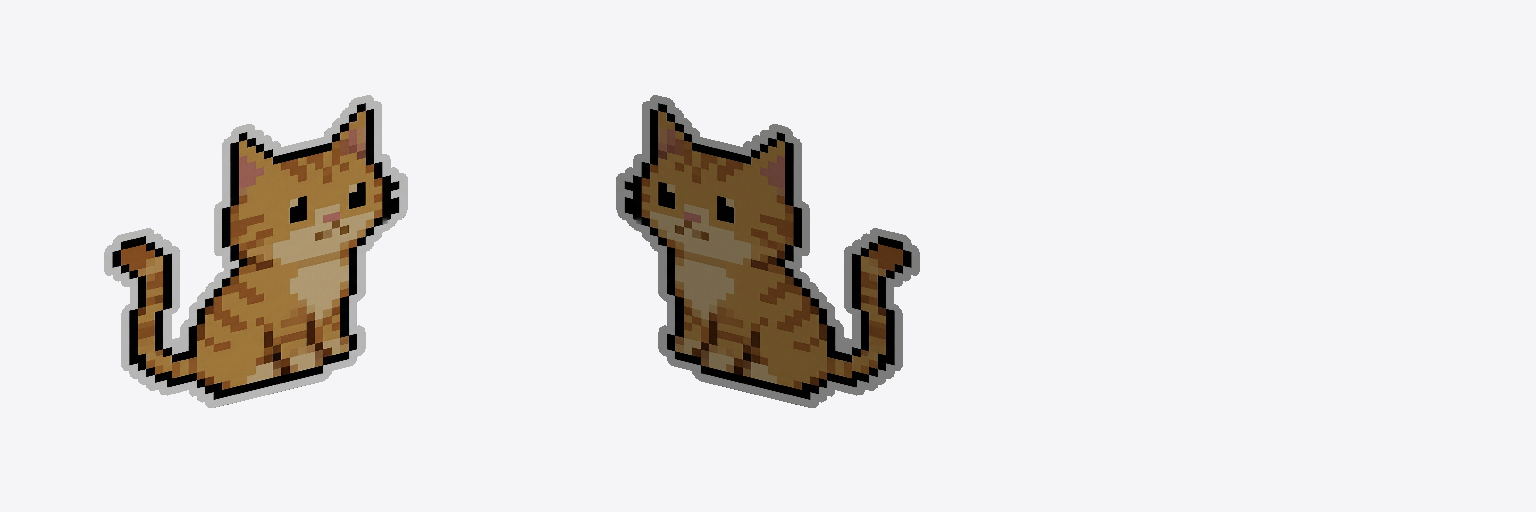
The picture shows the model from 3 angles: view 1: azimuth 30°, elevation 25°; view 2: azimuth 150°, elevation 25°; view 3: azimuth 270°, elevation 25°; orthographic projection.
Parts seen in each view (by area): view 1: cat2.001; view 2: cat2.001; view 3: none.
Boxes of the visible parts, <box> form: cat2.001: <box>104,95,407,407</box>; cat2.001: <box>616,95,919,407</box>.
Size of the model in its own units: 1.12 by 1 by 0.
1 materials, 1 textured.